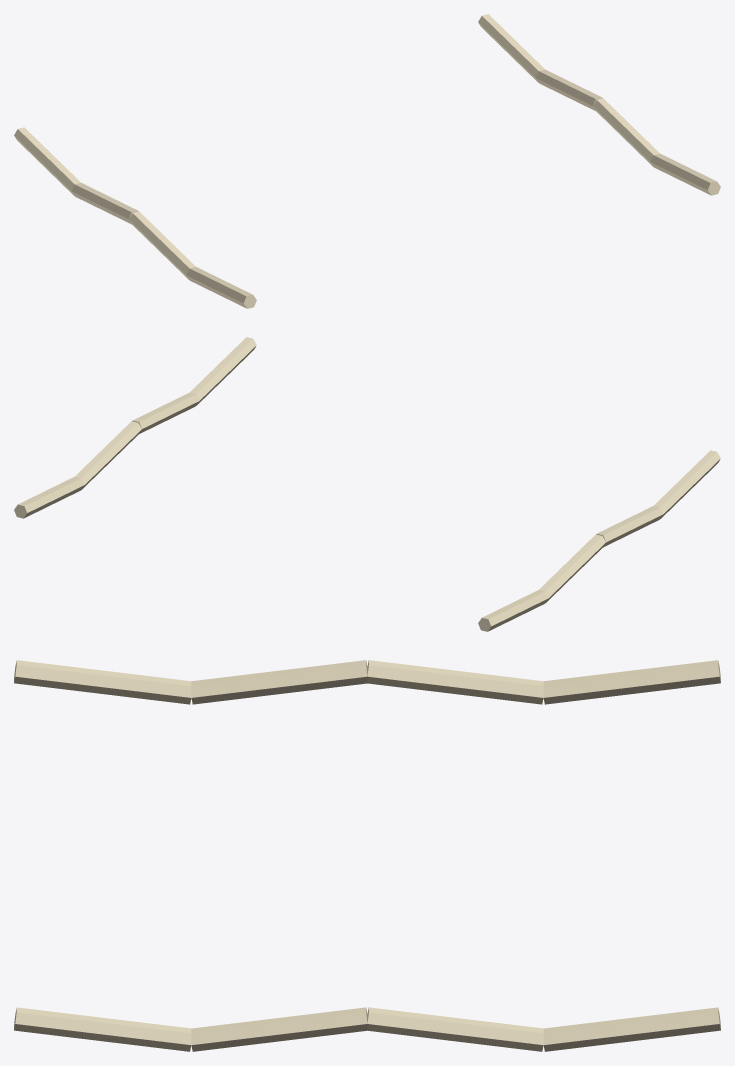
The model's file is main_dock_kit__rope_rails.glb.
3 renders of one model, top to bottom at view 1: azimuth 30°, elevation 25°; view 2: azimuth 150°, elevation 25°; view 3: azimuth 270°, elevation 25°, orthographic. The views are drawn at different scales.
Visible parts, largest first — view 1: rope_rails__cream.002; view 2: rope_rails__cream.002; view 3: rope_rails__cream.002.
Part boxes in pixels (box(x1,y1,x2,y2)): rope_rails__cream.002: box(14, 14, 720, 308); rope_rails__cream.002: box(14, 337, 720, 631); rope_rails__cream.002: box(14, 660, 720, 1051).
Size of the model in its own units: 2.88 by 0.1487 by 2.41.
